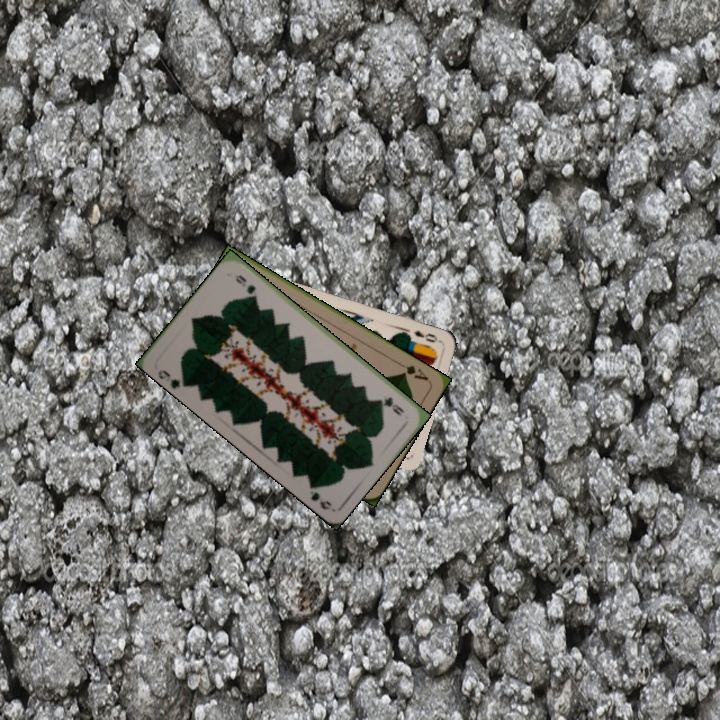EO: (410, 326, 440, 345)
G9: (154, 366, 189, 391), (375, 393, 407, 419)
GA: (394, 358, 431, 383)
